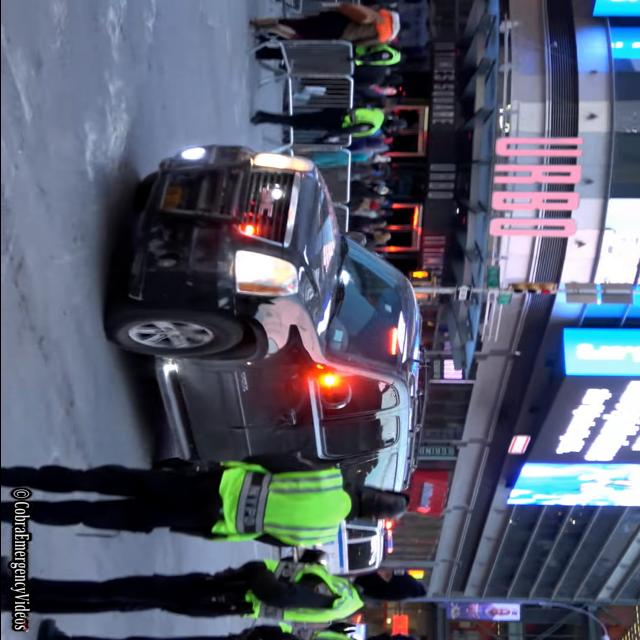emergency-vehicles: (88, 141, 437, 539)
